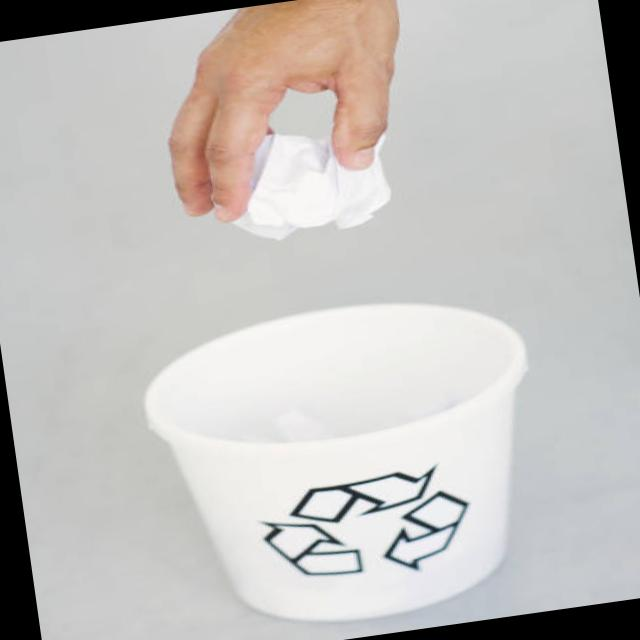electronic: (214, 117, 397, 248)
